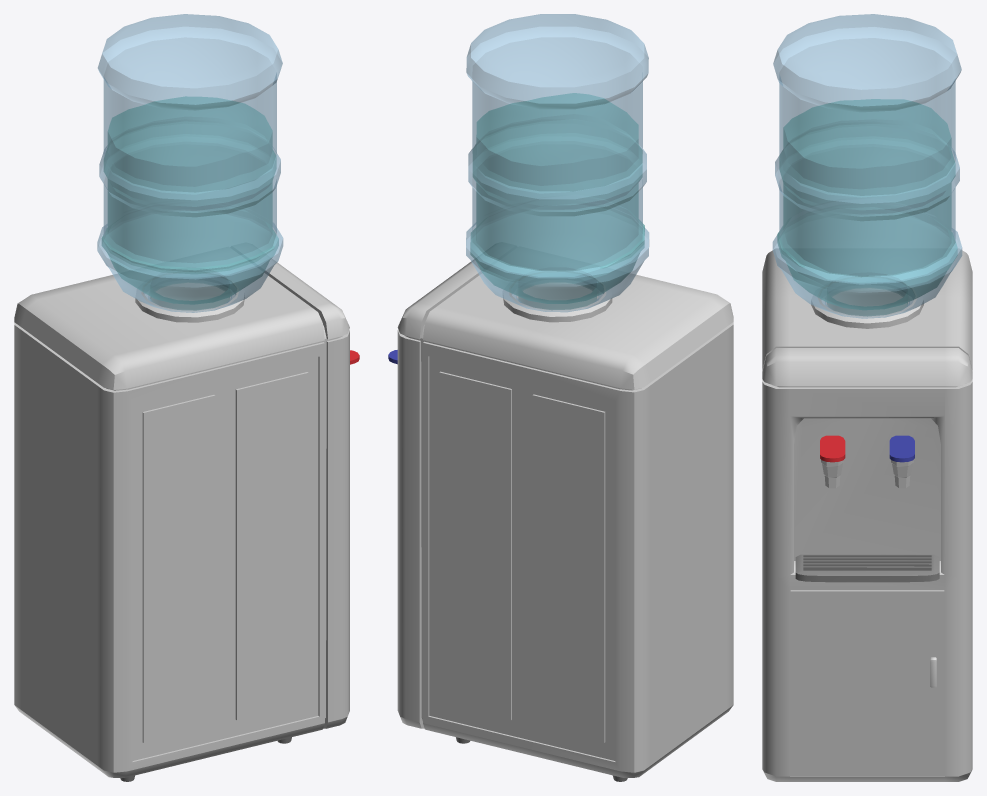
Rendered from WaterCooler.fbx.
3 views of the same model, side by side, from view 1: azimuth 30°, elevation 25°; view 2: azimuth 150°, elevation 25°; view 3: azimuth 270°, elevation 25° (orthographic).
Visible parts, largest first — view 1: WaterCooler, WaterCoolerJug; view 2: WaterCooler, WaterCoolerJug; view 3: WaterCooler, WaterCoolerJug.
Boxes of the visible parts, left/top/right/bottom form: WaterCooler: left=14, top=258, right=359, bottom=781; WaterCoolerJug: left=97, top=14, right=283, bottom=312; WaterCooler: left=388, top=259, right=733, bottom=781; WaterCoolerJug: left=466, top=14, right=649, bottom=312; WaterCooler: left=762, top=248, right=972, bottom=781; WaterCoolerJug: left=772, top=14, right=962, bottom=318.
Size of the model in its own units: 223 by 518 by 142.
